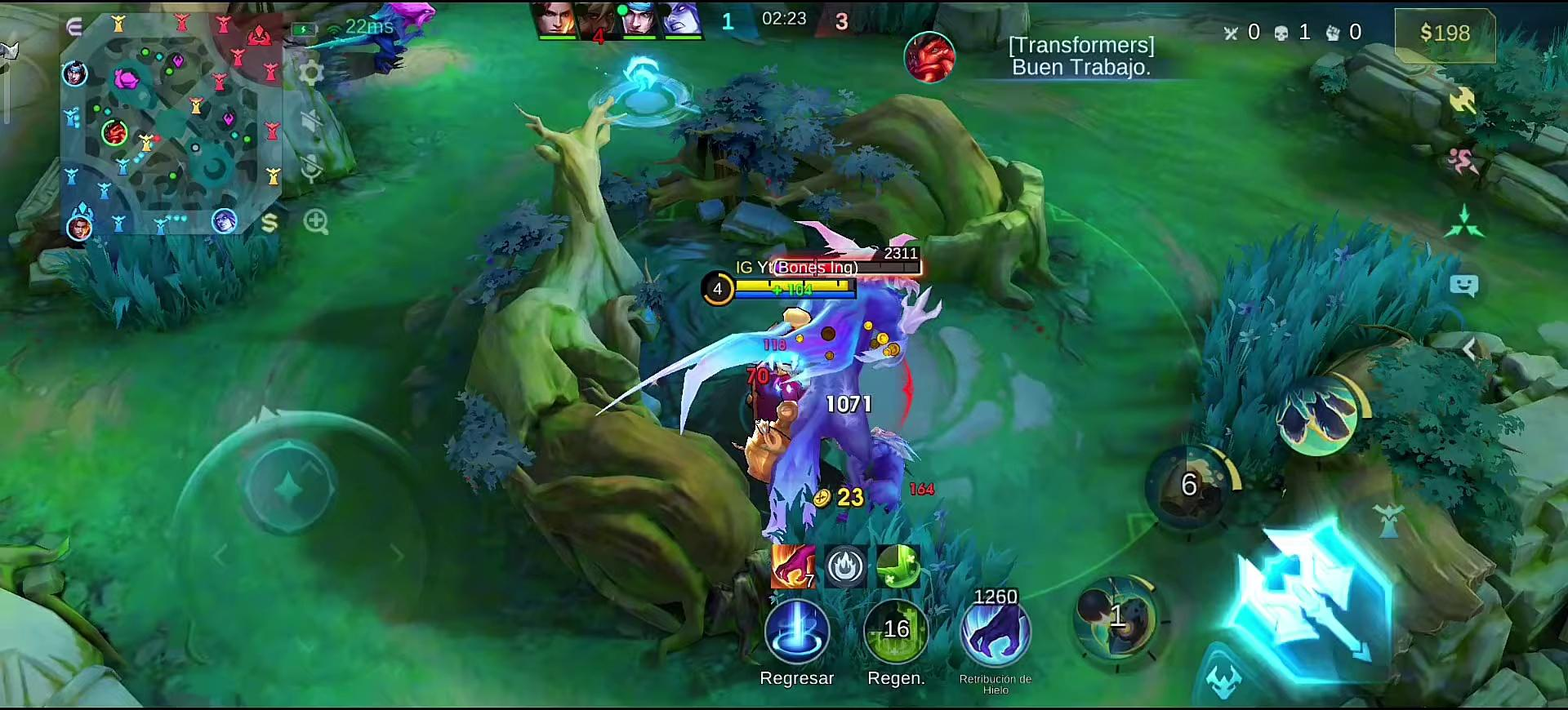Adc_Aliado: (207, 207, 240, 232)
Arbusto: (1202, 228, 1469, 490), (753, 518, 1020, 654), (36, 212, 272, 332), (825, 3, 1026, 50)
Bane: (744, 313, 826, 482)
Buff_blue: (657, 279, 941, 542), (801, 221, 876, 255)
EXP_Lane: (63, 14, 85, 43)
Exp_Aliado: (62, 57, 89, 87)
Gold_Lane: (259, 209, 280, 236)
HP_Heroe_Principal: (739, 281, 868, 290)
Hechizo_Batalla: (953, 585, 1030, 664)
Jungla_Aliado: (100, 115, 129, 147)
Mana: (737, 290, 855, 300)
Minimapa: (58, 14, 278, 237)
Roamer_Aliado: (66, 215, 93, 242)
Skill3: (1273, 368, 1367, 464)
Tortuga_mapa: (112, 66, 139, 90)
